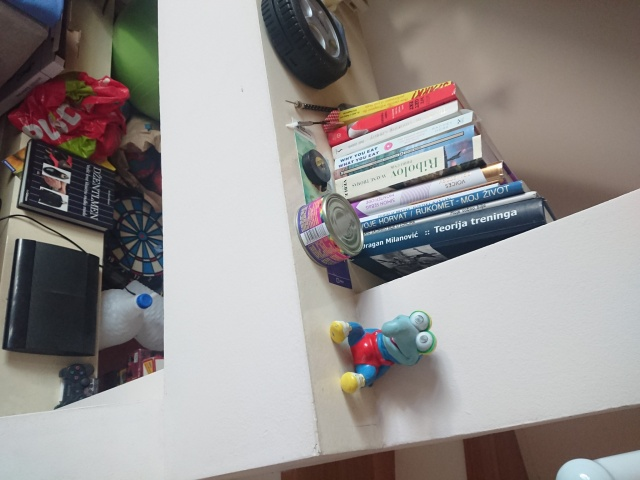Giana Tuna Salad Mexico 185g: (293, 191, 367, 269)
